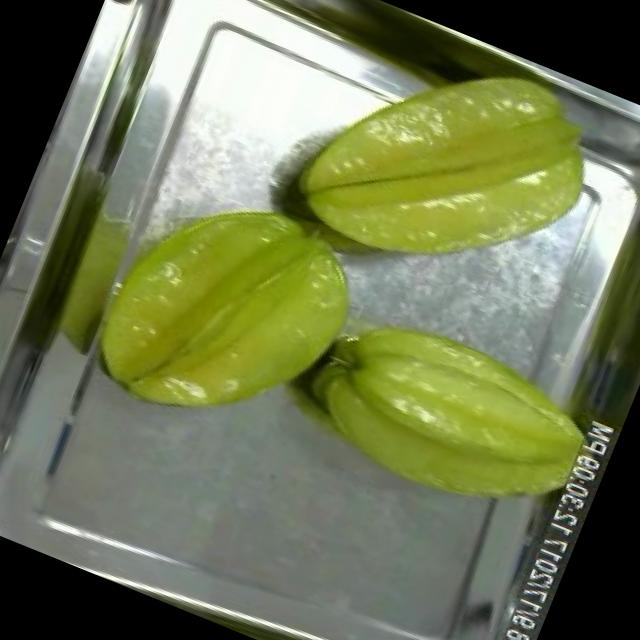fruit: (269, 0, 635, 332), (65, 149, 387, 473), (278, 278, 616, 554)
